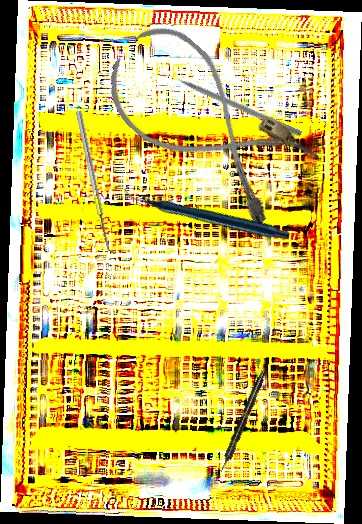Cannula: (89, 12, 323, 234)
Handpiece: (121, 125, 292, 300), (217, 369, 268, 474)
Pusher: (159, 67, 303, 137)
Spatula Surgical: (75, 109, 118, 256)
